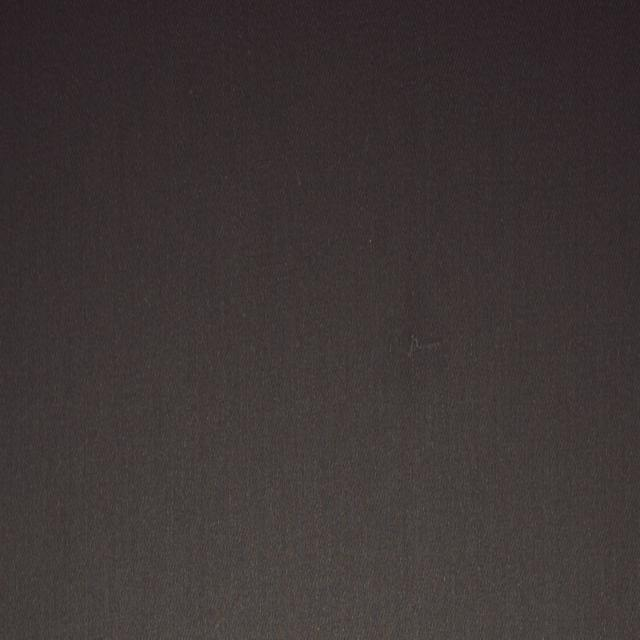Knot: (409, 335, 443, 356)
